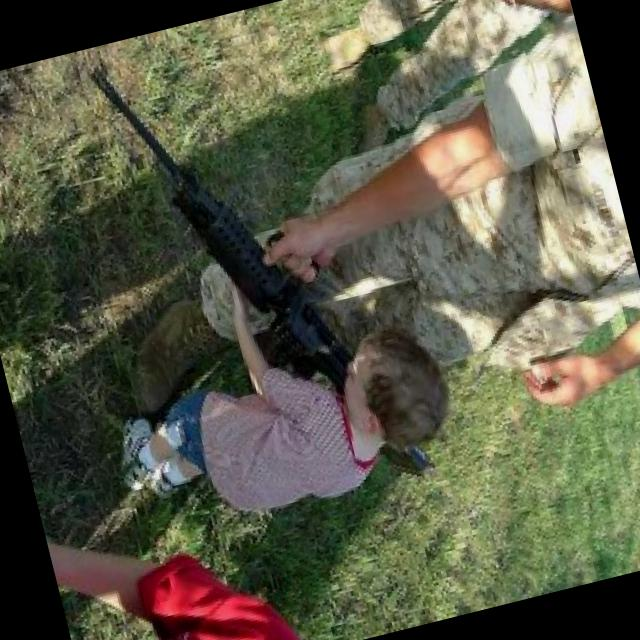long weapon: (72, 6, 443, 539)
